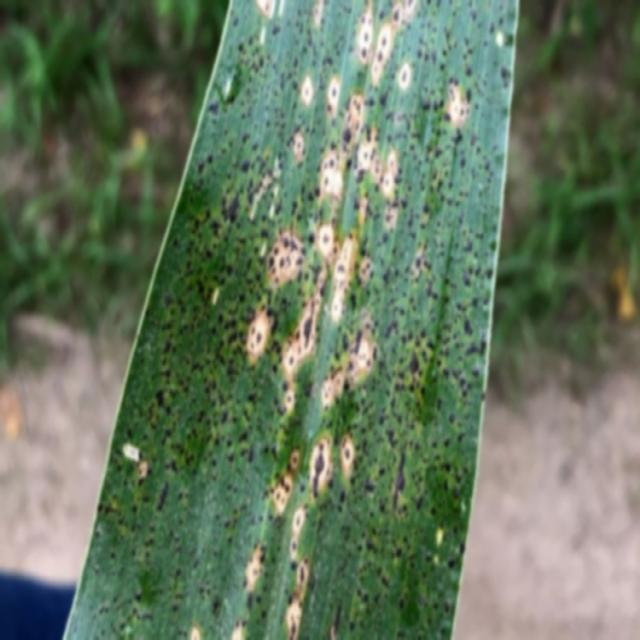Tar_Spot: (161, 87, 494, 607)
